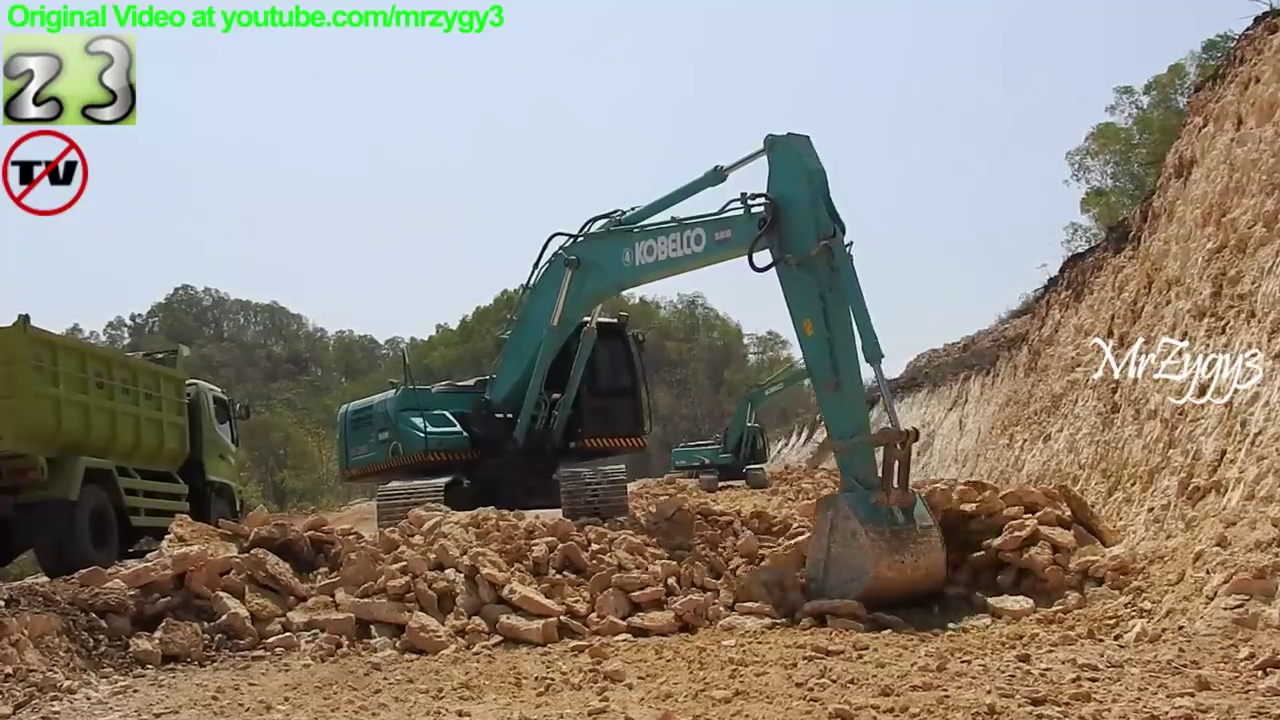excavator: (333, 128, 954, 626), (667, 345, 865, 496)
truck: (1, 305, 257, 588)
